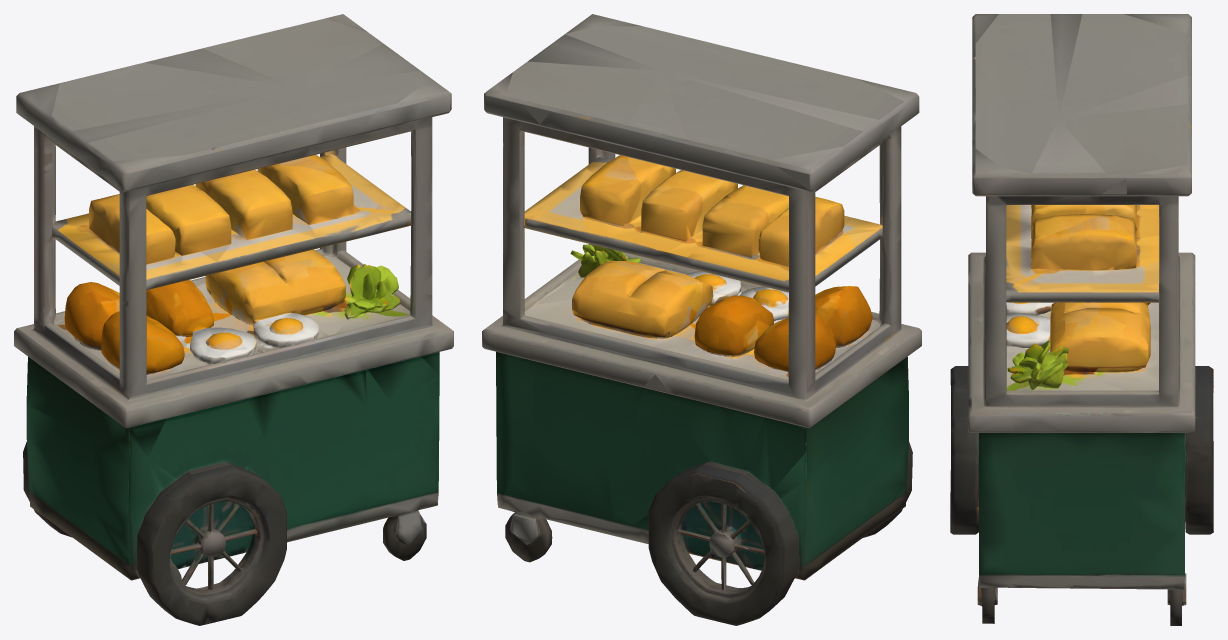
The model's file is suon_raw_counter.glb.
3 views of the same model, side by side, from view 1: azimuth 30°, elevation 25°; view 2: azimuth 150°, elevation 25°; view 3: azimuth 270°, elevation 25° (orthographic).
Visible parts, largest first — view 1: model_LOD2; view 2: model_LOD2; view 3: model_LOD2.
Part boxes in pixels (x1,y1,x2,y2): model_LOD2: [14, 14, 453, 625]; model_LOD2: [482, 14, 921, 625]; model_LOD2: [950, 14, 1213, 625].
Size of the model in its own units: 2.83 by 3.8 by 1.94.
Materials: 1 (1 with a texture image).
